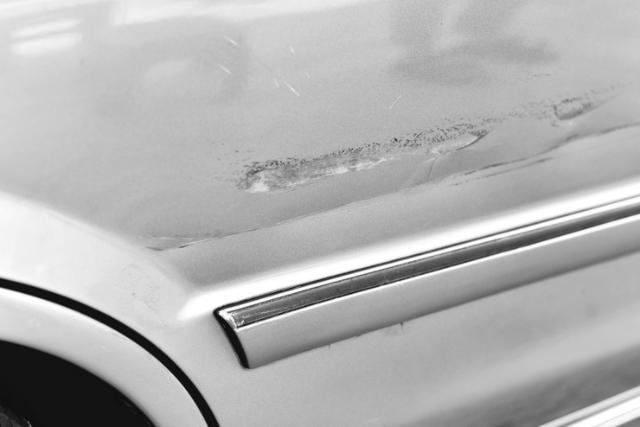Door: (156, 57, 640, 318)
